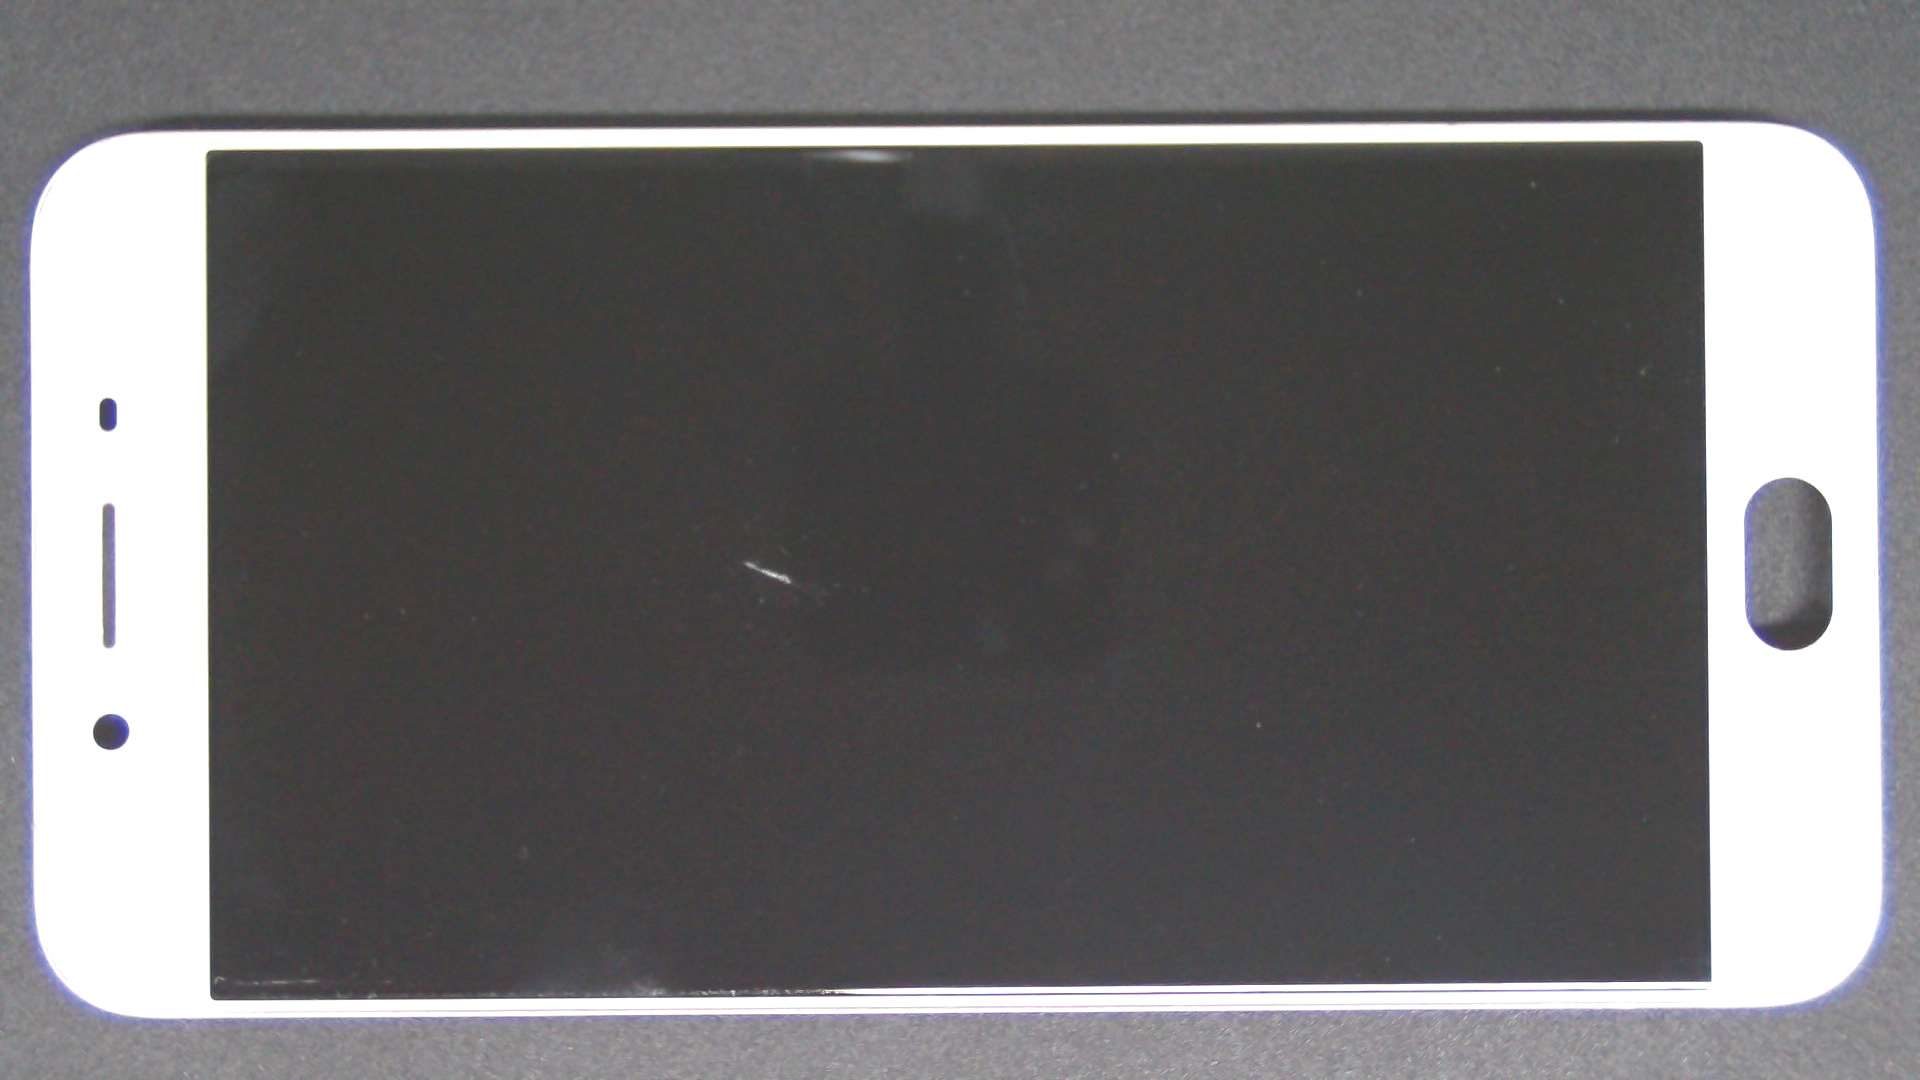oil: (376, 280, 1125, 843)
